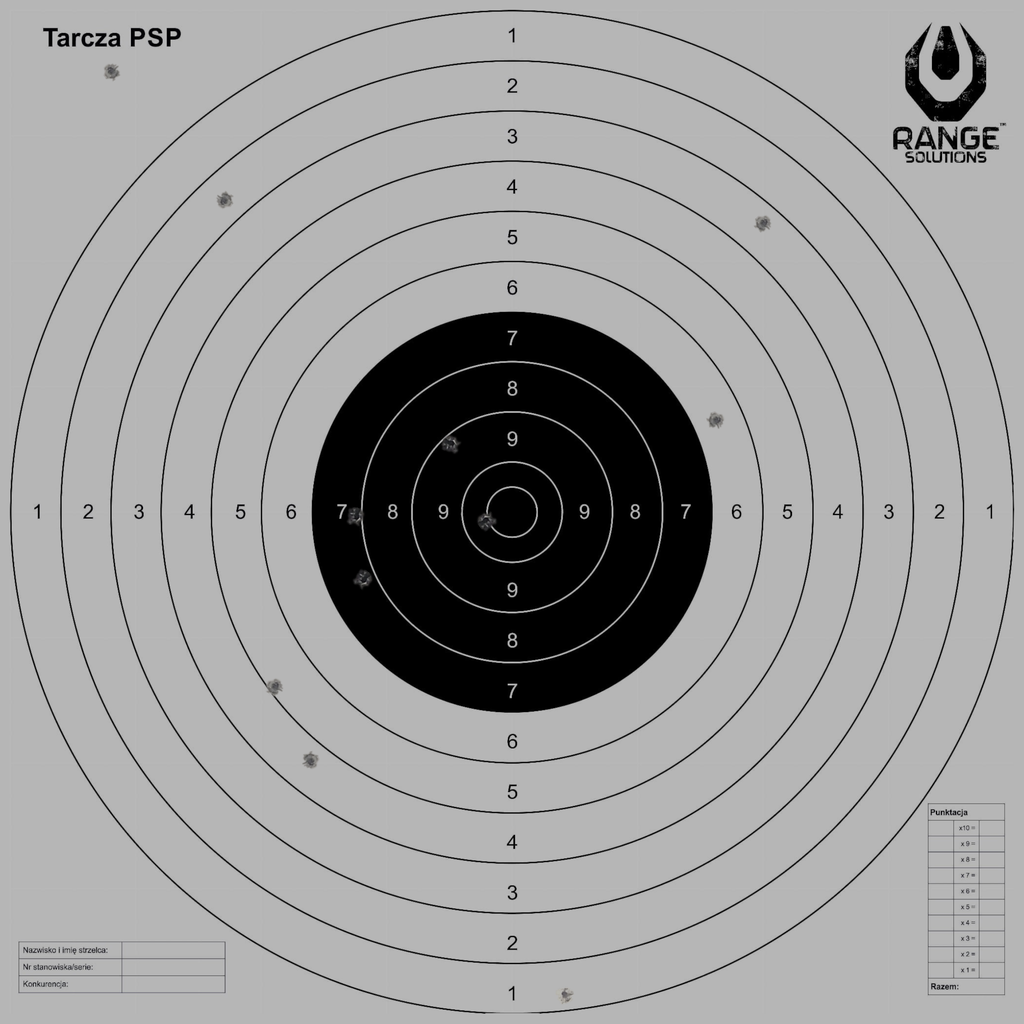0 punktow: (102, 62, 121, 80)
1 punkt: (556, 985, 574, 1004)
10 punktow: (477, 511, 495, 530)
2 punkty: (215, 192, 233, 210)
3 punkty: (754, 214, 773, 232)
4 punkty: (301, 752, 320, 770)
5 punktow: (266, 677, 284, 696)
6 punktow: (707, 411, 726, 429)
7 punktow: (354, 571, 373, 589)
8 punktow: (347, 508, 366, 526)
9 punktow: (442, 434, 461, 453)
